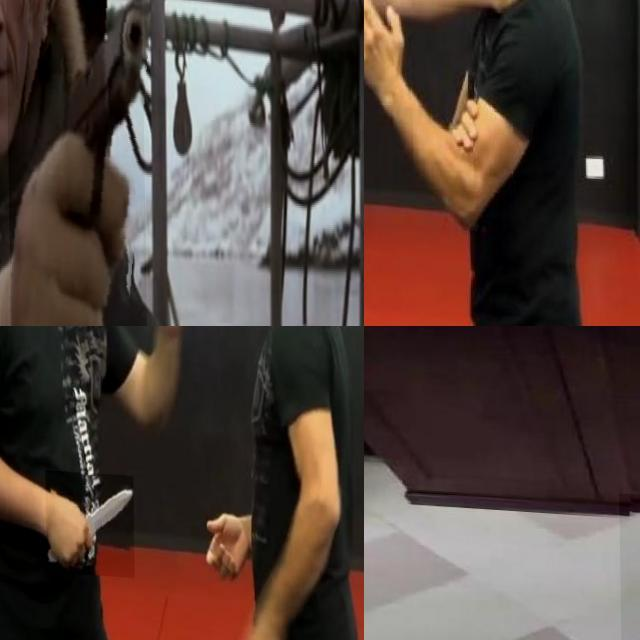-: (44, 468, 133, 575), (364, 221, 399, 326)
gun-knife-thesis - v11 Yolov5 augmented: (5, 0, 146, 326)
